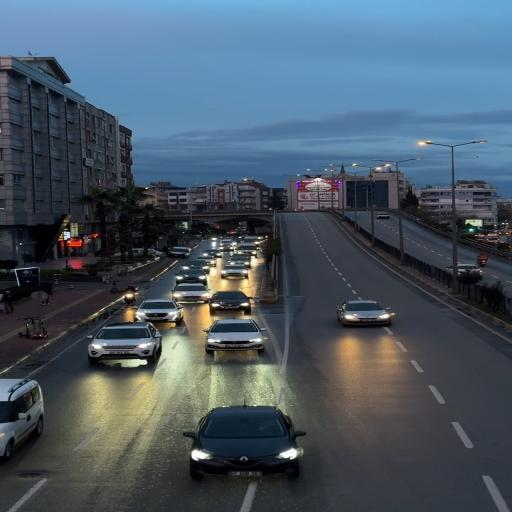car: (183, 387, 324, 492), (0, 367, 75, 468), (334, 296, 447, 348), (198, 322, 302, 374), (91, 326, 192, 373), (172, 277, 248, 309), (185, 254, 266, 280), (439, 262, 509, 289), (140, 304, 204, 328), (206, 243, 279, 260), (370, 214, 420, 227)
lights: (411, 138, 502, 285), (278, 140, 408, 204)
